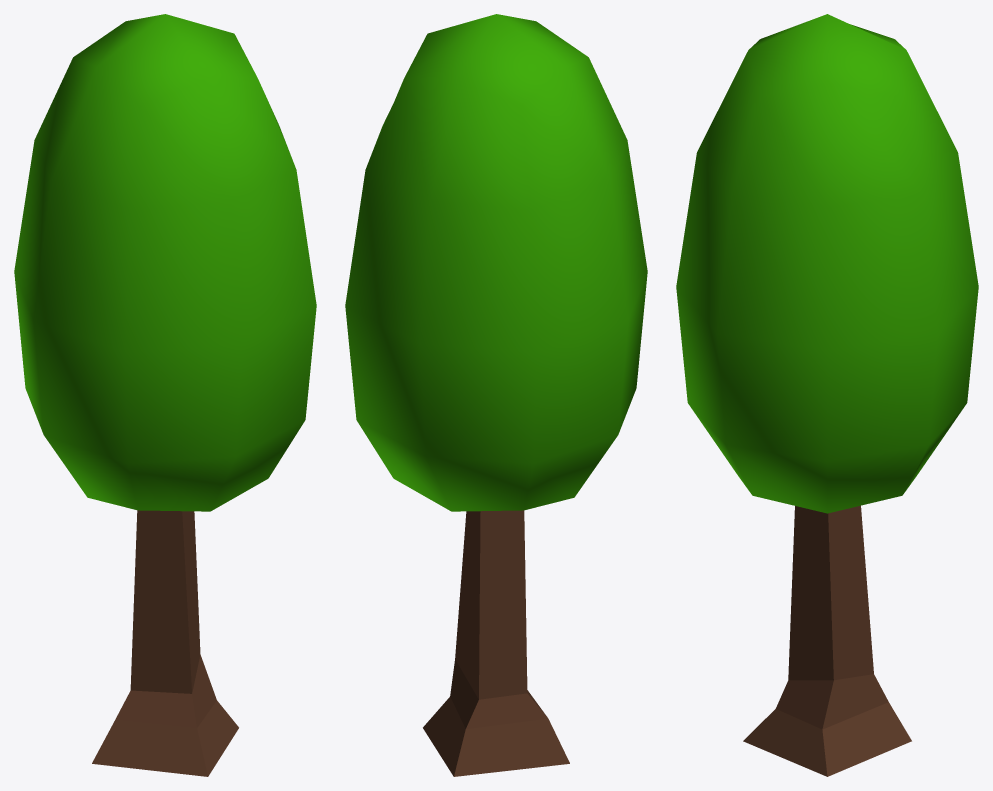
Rendered from agac-1.fbx.
3 renders of one model, left to right at view 1: azimuth 30°, elevation 25°; view 2: azimuth 150°, elevation 25°; view 3: azimuth 270°, elevation 25°, orthographic.
Parts seen in each view (by area): view 1: agac-1; view 2: agac-1; view 3: agac-1.
Part boxes in pixels (x1=…): agac-1: x1=14, y1=14, x2=316, y2=776; agac-1: x1=345, y1=14, x2=647, y2=776; agac-1: x1=676, y1=14, x2=978, y2=776.
Bounding box in the file's own units: 128 × 340 × 128.
